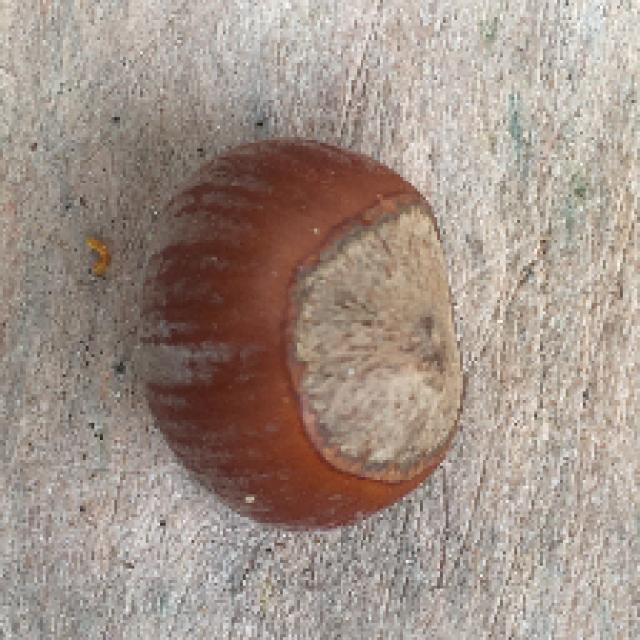QualityHazelnut: (137, 134, 469, 532)
